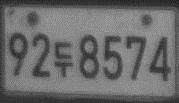2: (30, 33, 51, 78)
4: (147, 35, 172, 82)
5: (101, 34, 123, 79)
7: (124, 34, 147, 81)
8: (76, 32, 100, 79)
9: (8, 31, 28, 77)
두: (53, 40, 73, 79)
